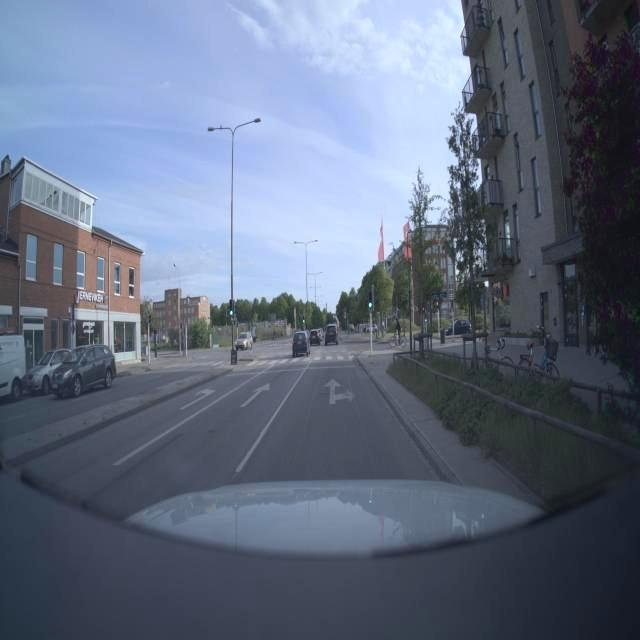Green: (366, 293, 375, 313), (229, 298, 236, 318)
